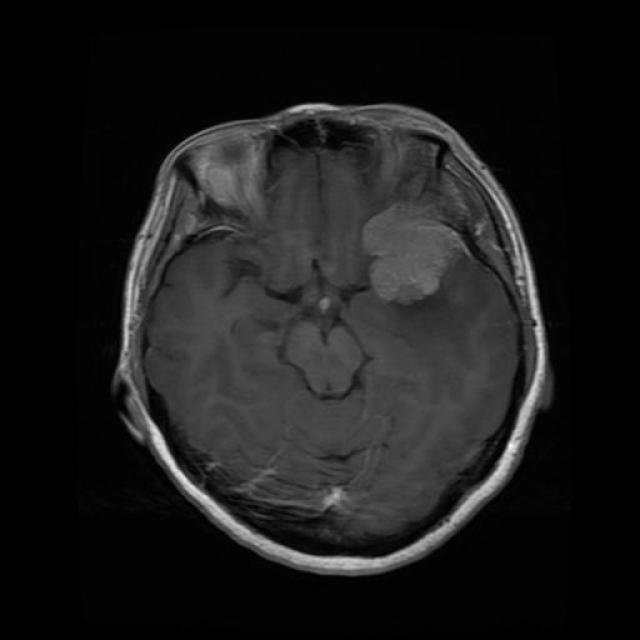meningioma: (364, 206, 466, 308)
